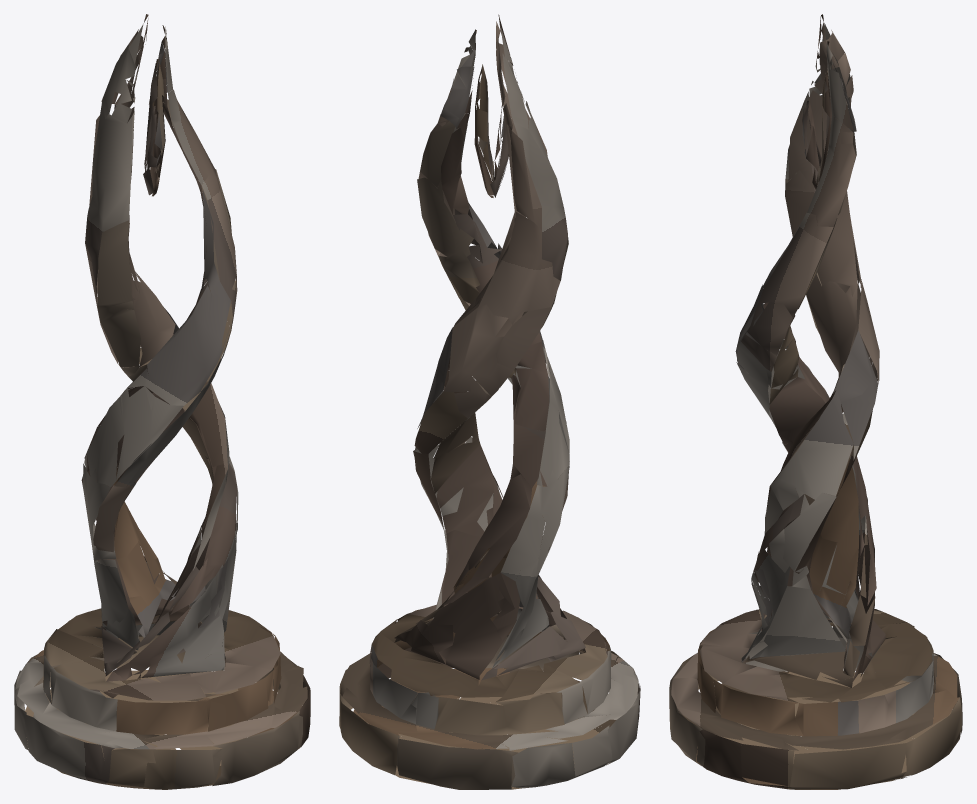
The model's file is sculpture.glb.
The picture shows the model from 3 angles, left to right: view 1: azimuth 30°, elevation 25°; view 2: azimuth 150°, elevation 25°; view 3: azimuth 270°, elevation 25°; orthographic projection.
Parts seen in each view (by area): view 1: LO.001; view 2: LO.001; view 3: LO.001.
Boxes of the visible parts, box(x1,y1,x2,y2) form: LO.001: box(14, 14, 310, 789); LO.001: box(339, 14, 640, 789); LO.001: box(669, 14, 962, 789).
Bounding box in the file's own units: 0.3668 × 0.982 × 0.3668.
1 material, 1 textured.
